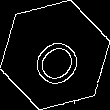O_NE: (22, 22, 88, 88)
